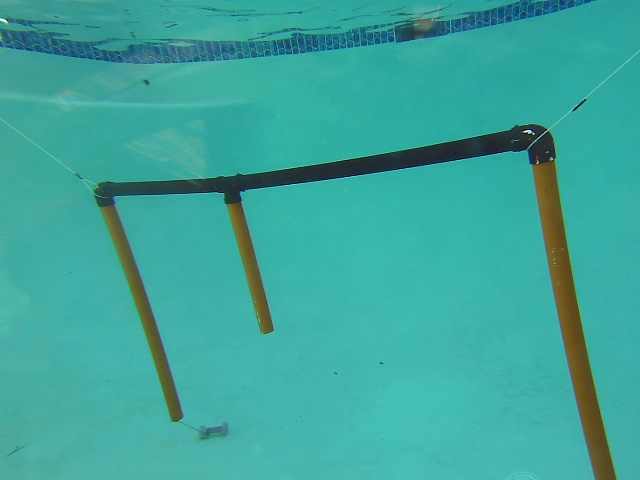Gate: (530, 158, 621, 480), (96, 197, 185, 425), (223, 194, 273, 341)
